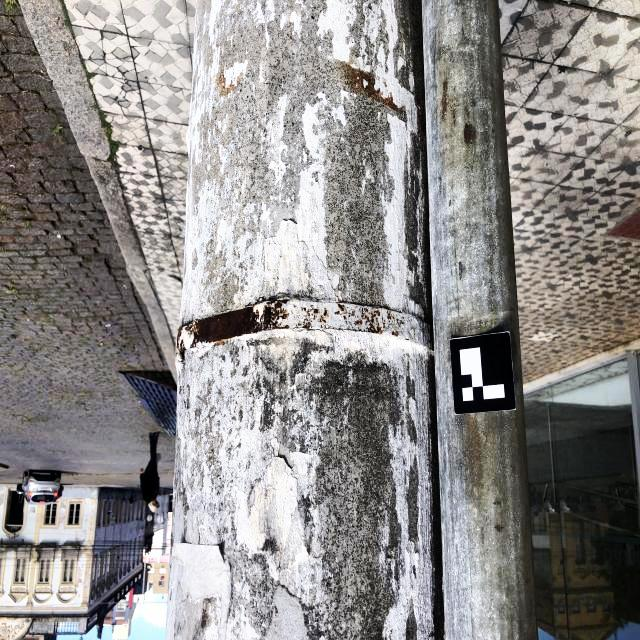Corrosion: (176, 299, 290, 354), (364, 308, 383, 335), (319, 308, 329, 324), (312, 307, 320, 319), (337, 303, 345, 312), (303, 322, 313, 329), (348, 309, 355, 318), (353, 319, 363, 325), (382, 317, 386, 329), (392, 331, 399, 337), (387, 310, 391, 320), (334, 310, 340, 316), (392, 314, 395, 321), (307, 310, 310, 316), (344, 315, 347, 321), (303, 307, 307, 311)
